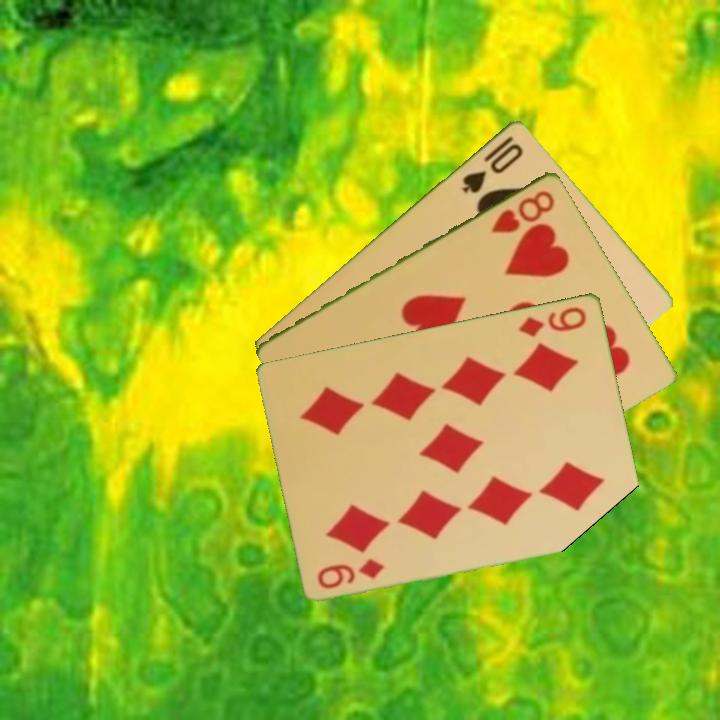10s: (458, 131, 526, 196)
8h: (487, 186, 558, 236)
9d: (314, 554, 388, 591), (515, 303, 590, 339)
